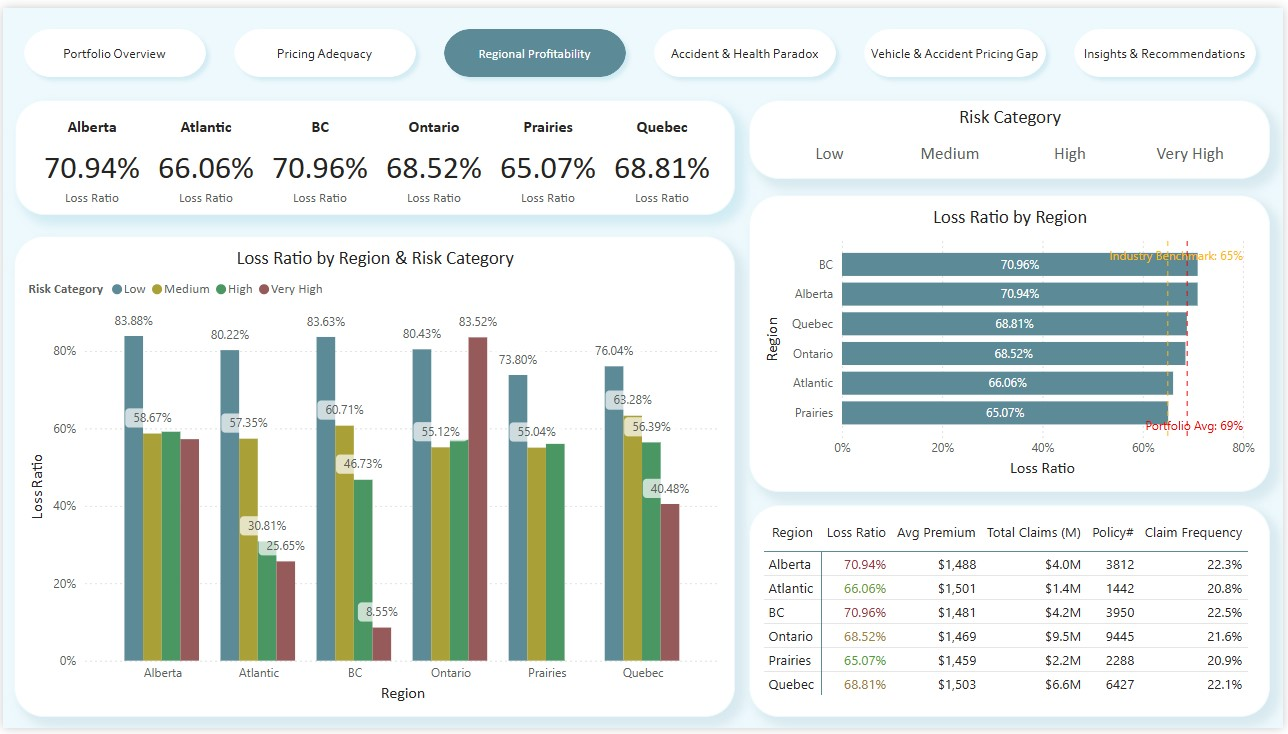

Layout of this report page (visuals, bound fields, positions):
{"tool":"powerbi","page":{"name":"Regional Profitability","canvas":[1280,720],"ordinal":2},"visuals":[{"type":"pageNavigator","box":[11.5,12.4,1255.6,65.6],"z":0},{"type":"clusteredColumnChart","title":"Loss Ratio by Region & Risk Category","fields":{"Y":["INSURANCE_DETAIL.Loss Ratio"],"Category":["INSURANCE_DETAIL.REGION"],"Series":["INSURANCE_DETAIL.RISKCATEGORY"]},"box":[11.1,227.8,721.1,481.1],"z":1000},{"type":"cardVisual","fields":{"Data":["INSURANCE_DETAIL.Loss Ratio"],"Rows":["INSURANCE_DETAIL.REGION"]},"box":[12.2,92.2,720,114.4],"z":2000},{"type":"barChart","title":"Loss Ratio by Region","fields":{"Y":["INSURANCE_DETAIL.Loss Ratio"],"Category":["INSURANCE_DETAIL.REGION"]},"box":[745.6,186.7,521.1,297.8],"z":3000},{"type":"pivotTable","title":"Avg Premium vs Avg Risk Score ","fields":{"Values":["INSURANCE_DETAIL.Loss Ratio","INSURANCE_DETAIL.Avg Premium","INSURANCE_DETAIL.Total Claims (M)","CountNonNull(INSURANCE_DETAIL.POLICYID)","INSURANCE_DETAIL.Claim Frequency"],"Rows":["INSURANCE_DETAIL.REGION"]},"box":[745.6,496.7,521.1,212.2],"z":4000},{"type":"slicer","title":"Risk Category","fields":{"Values":["INSURANCE_DETAIL.RISKCATEGORY"]},"box":[745.6,92.2,521.1,78.9],"z":5000}]}

Visuals, with their boxes in screenshot pixels (x1, y1, x2, y2), scaled from the page's 1280x720 canvas onto the 1288x734 screenshot:
pageNavigator: bbox=[12, 13, 1275, 80]
"Loss Ratio by Region & Risk Category" clusteredColumnChart: bbox=[11, 232, 737, 723]
cardVisual - INSURANCE_DETAIL.Loss Ratio x INSURANCE_DETAIL.REGION: bbox=[12, 94, 737, 211]
"Loss Ratio by Region" barChart: bbox=[750, 190, 1275, 494]
"Avg Premium vs Avg Risk Score " pivotTable: bbox=[750, 506, 1275, 723]
"Risk Category" slicer: bbox=[750, 94, 1275, 174]
